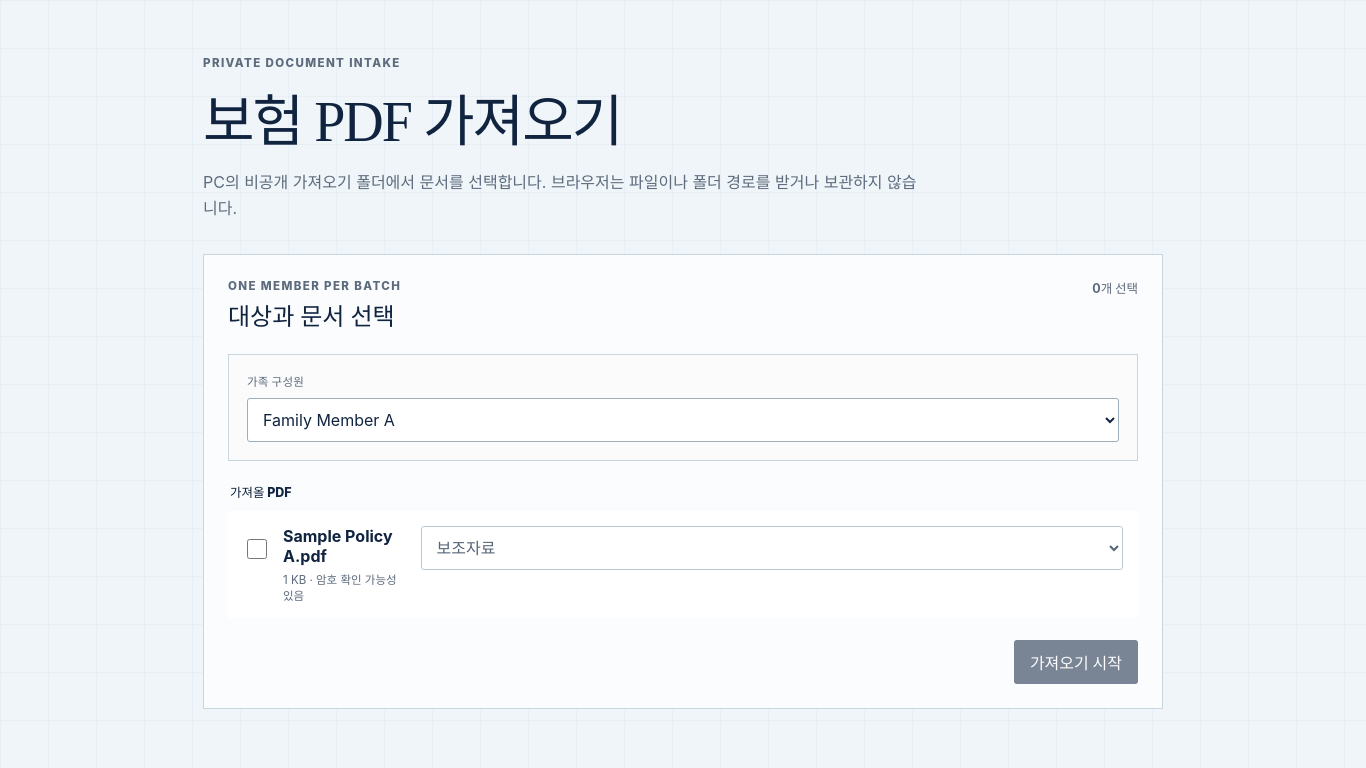
Test: document import page › prompts only failed items once, clears the password, and preserves successes
Step 1. Click the checkbox labelled "Sample Policy A.pdf 1 KB · 암호 확인 가능성 있음" → (257, 549), box 247,527 -> 267,571
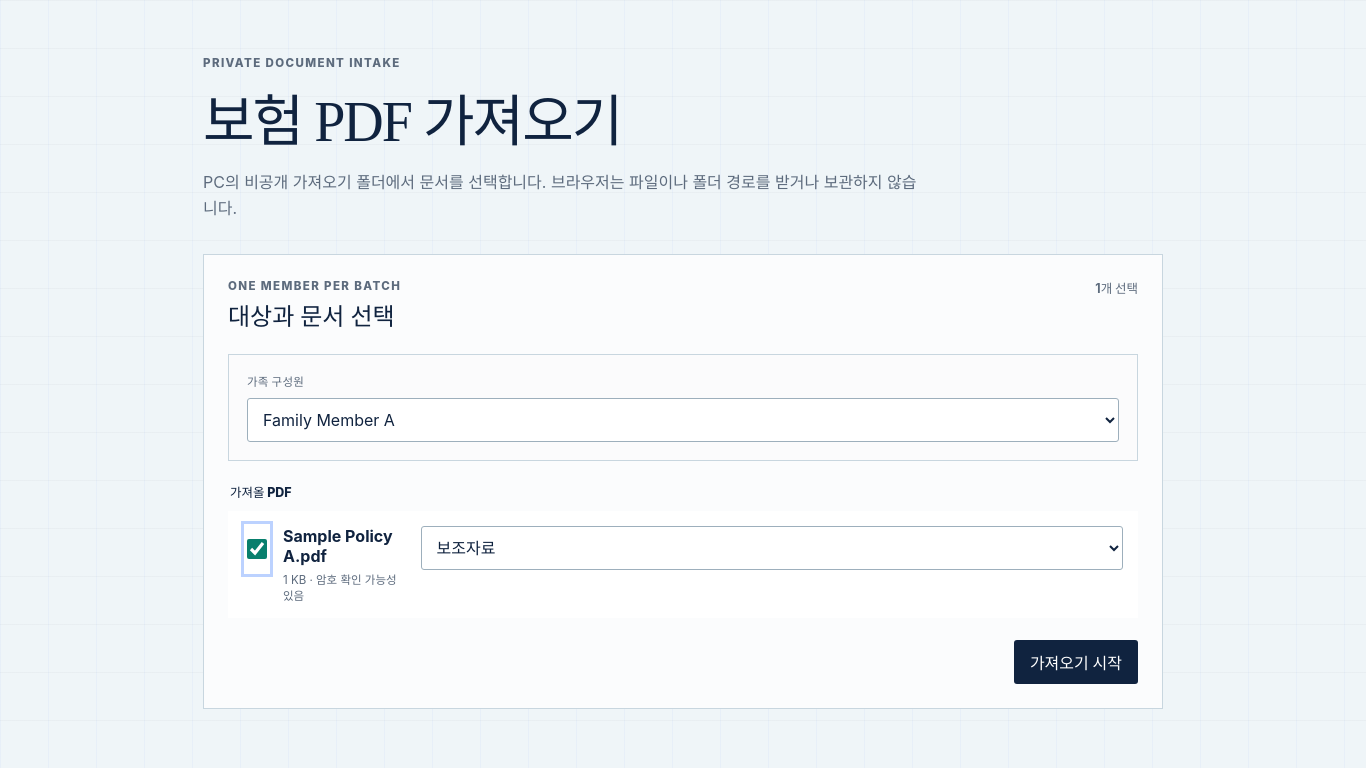
Step 2. Select "증권" in the dropdown named "Sample Policy A.pdf 문서 종류" → (772, 548), box 421,526 -> 1123,570
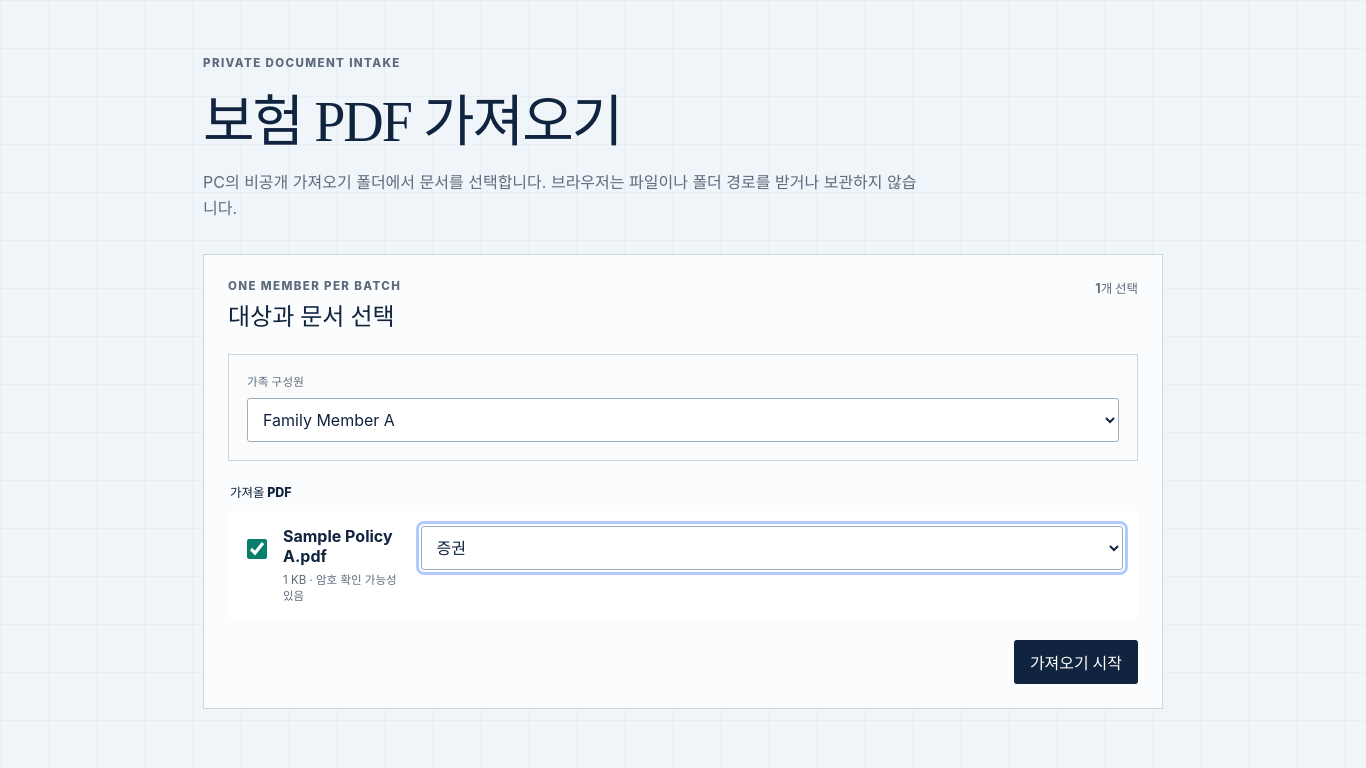
Step 3. Click the button "가져오기 시작" → (1076, 662), box 1014,640 -> 1138,684
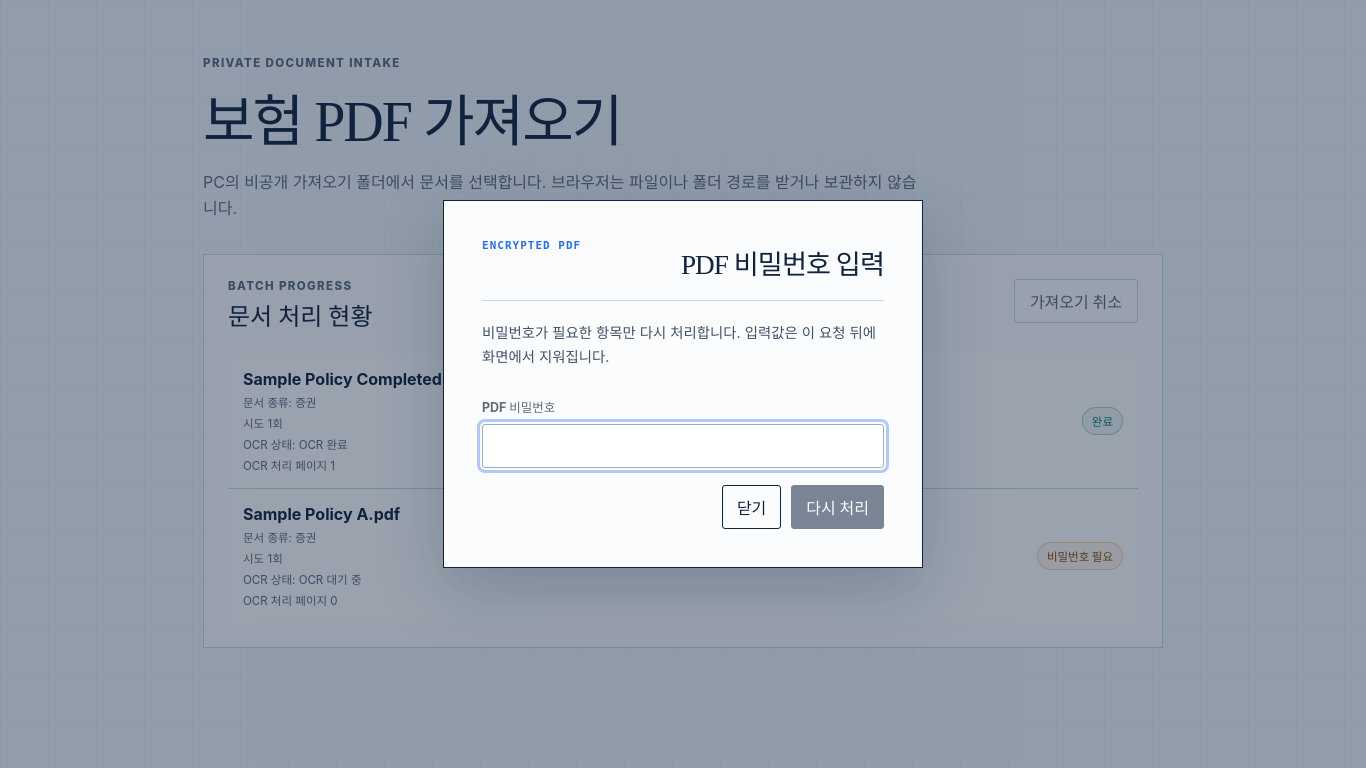
Expected: the text "Sample Policy Completed.pdf" is shown, 243,369 -> 474,389
Expected: the text "완료" is shown, 1082,407 -> 1123,435
Step 4. Type "synthetic-password" into the password field labelled "PDF 비밀번호" → (683, 446), box 482,424 -> 884,468
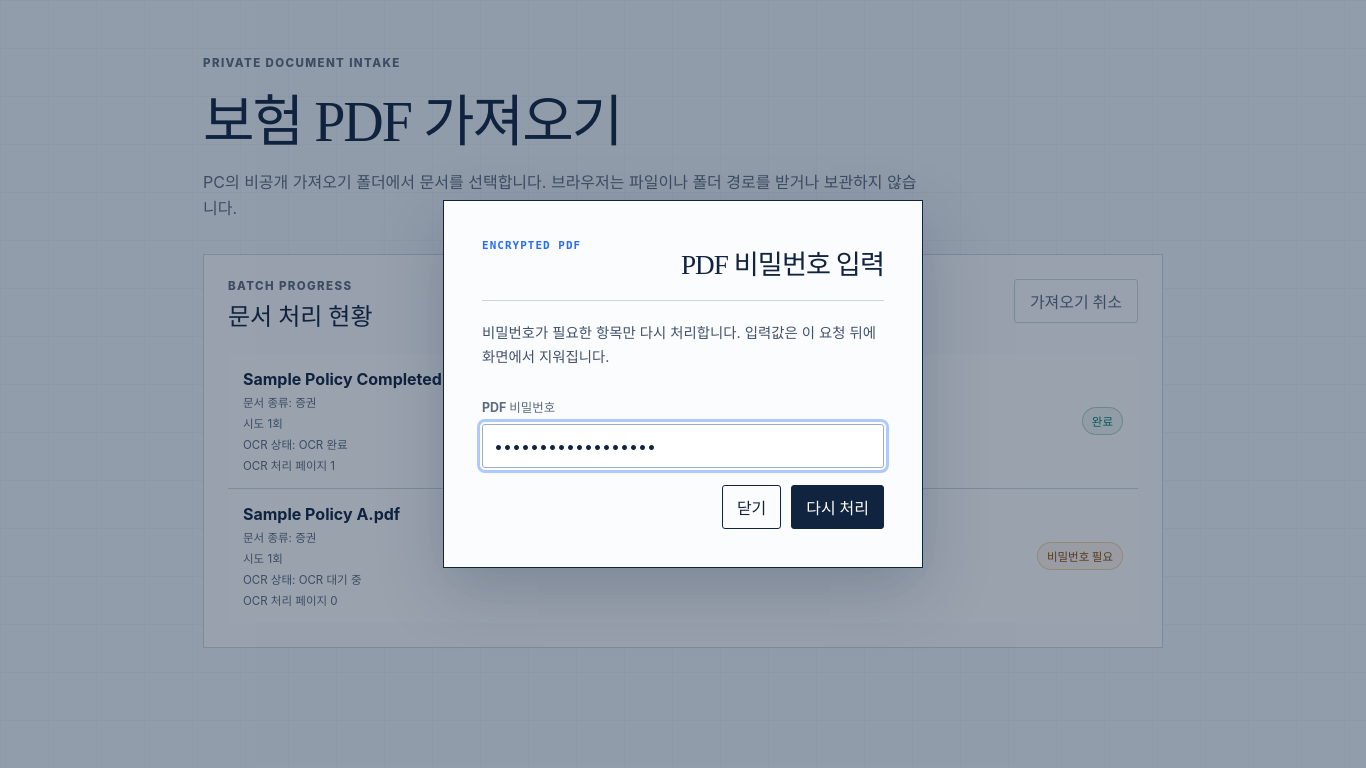
Step 5. Click the button "다시 처리" → (838, 507), box 791,485 -> 884,529
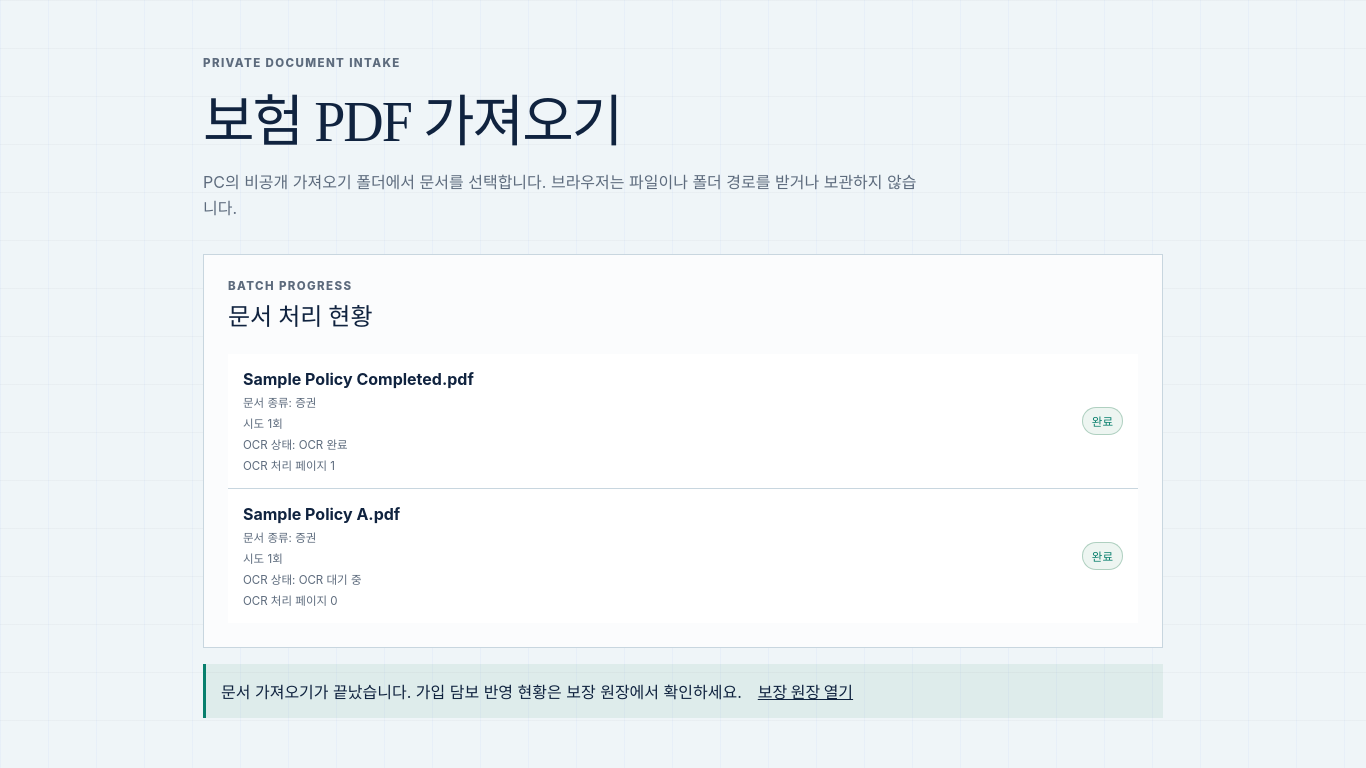
Expected: the text "완료" is shown 2 times, 1082,407 -> 1123,435; 1082,542 -> 1123,570
Expected: the dialog is gone
